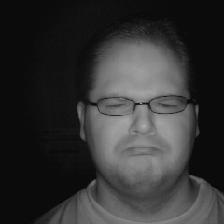sad: (74, 31, 210, 201)
